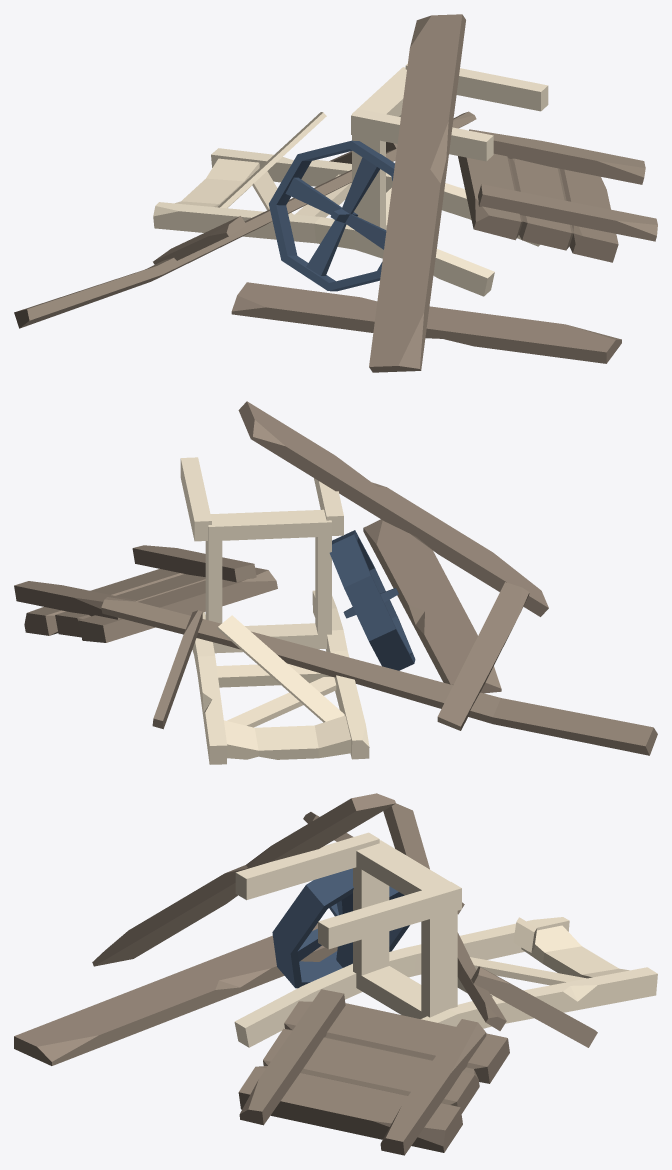
The model's file is SM_Prop_Rubbish_Pile_05_stylized_reference.fbx.
3 renders of one model, top to bottom at view 1: azimuth 30°, elevation 25°; view 2: azimuth 150°, elevation 25°; view 3: azimuth 270°, elevation 25°, orthographic. The views are drawn at different scales.
Visible parts, largest first — view 1: SM_Prop_Rubbish_Pile_05; view 2: SM_Prop_Rubbish_Pile_05; view 3: SM_Prop_Rubbish_Pile_05.
Part boxes in pixels (left/top/right/bottom): SM_Prop_Rubbish_Pile_05: left=14, top=14, right=657, bottom=372; SM_Prop_Rubbish_Pile_05: left=14, top=401, right=657, bottom=764; SM_Prop_Rubbish_Pile_05: left=14, top=793, right=657, bottom=1155.
Size of the model in its own units: 238 by 86.94 by 194.
Materials: 1 (1 with a texture image).
